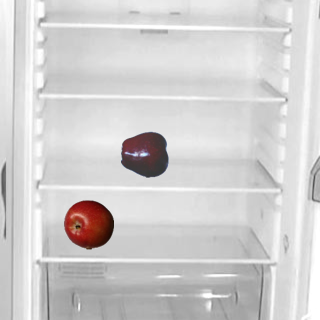Apple Braeburn: (63, 199, 113, 249)
Apple Red Delicious: (120, 129, 170, 179)
